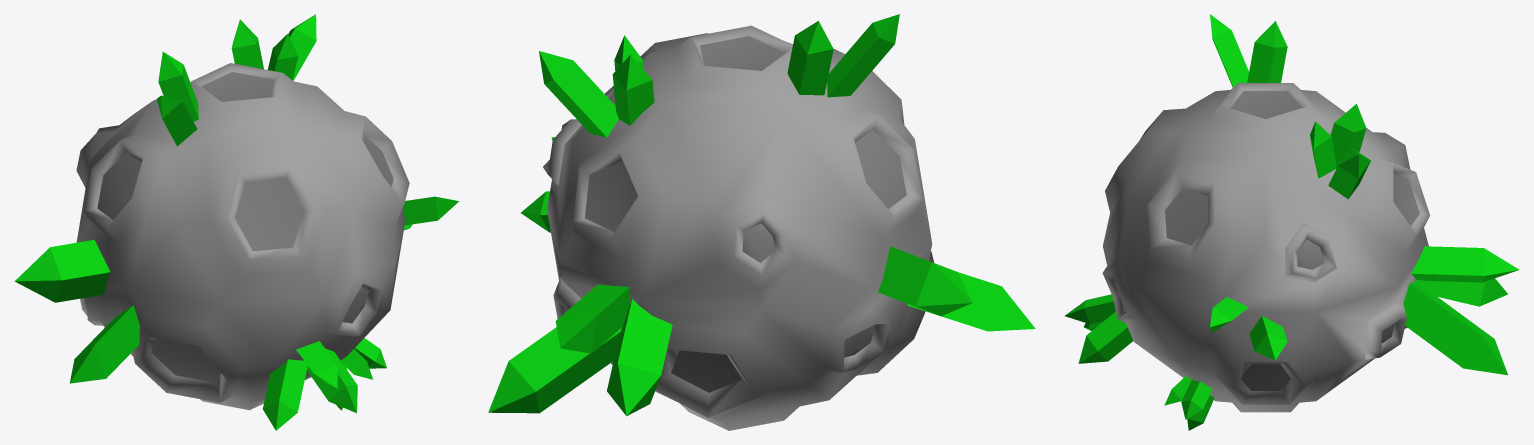
File: emerald meteoor.fbx
The picture shows the model from 3 angles, left to right: view 1: azimuth 30°, elevation 25°; view 2: azimuth 150°, elevation 25°; view 3: azimuth 270°, elevation 25°; orthographic projection. The views are drawn at different scales.
Visible parts, largest first — view 1: Cube; view 2: Cube; view 3: Cube.
Part boxes in pixels (left/top/right/bottom): Cube: left=14, top=14, right=459, bottom=430; Cube: left=488, top=14, right=1035, bottom=430; Cube: left=1065, top=14, right=1519, bottom=430.
Bounding box in the file's own units: 2.76 × 2.35 × 2.79.
